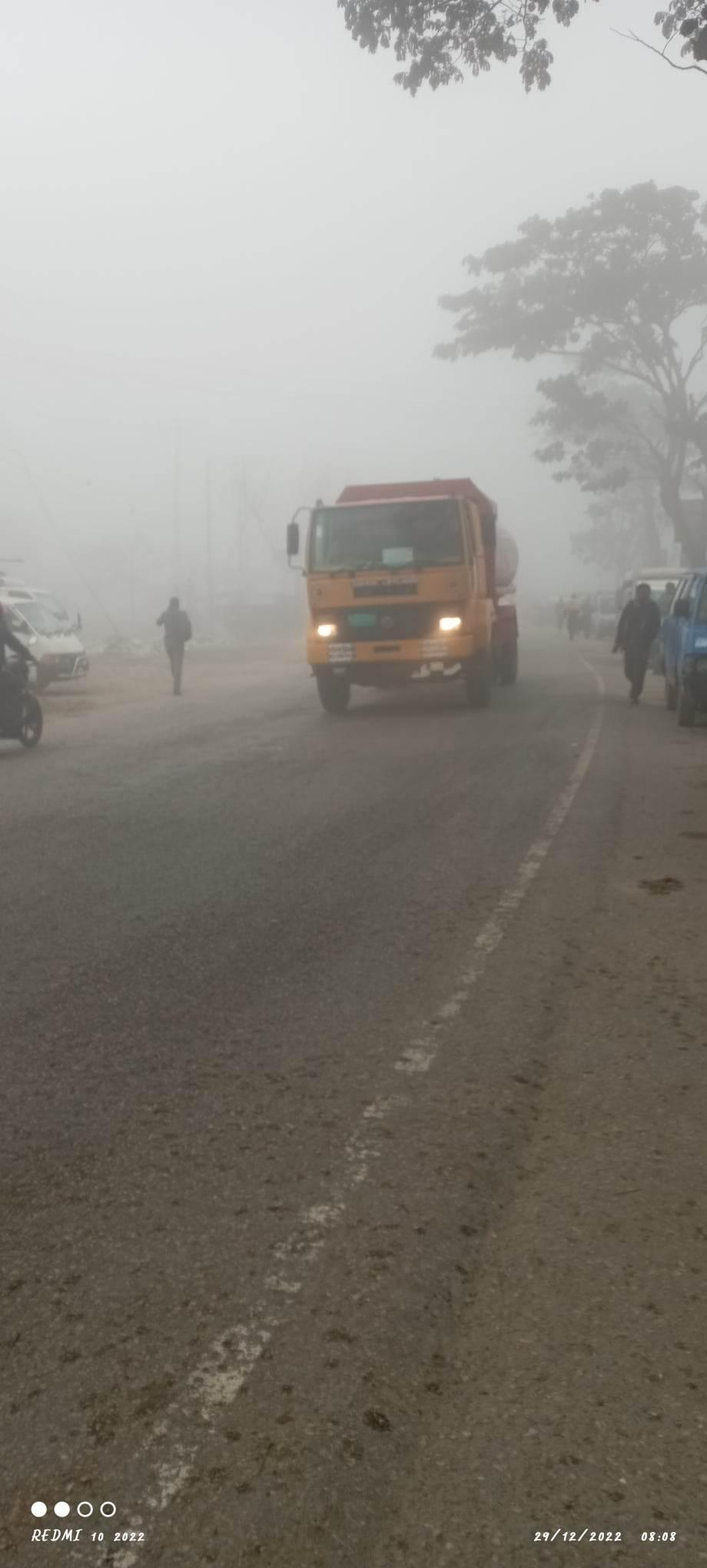Truck: (257, 452, 546, 736)
